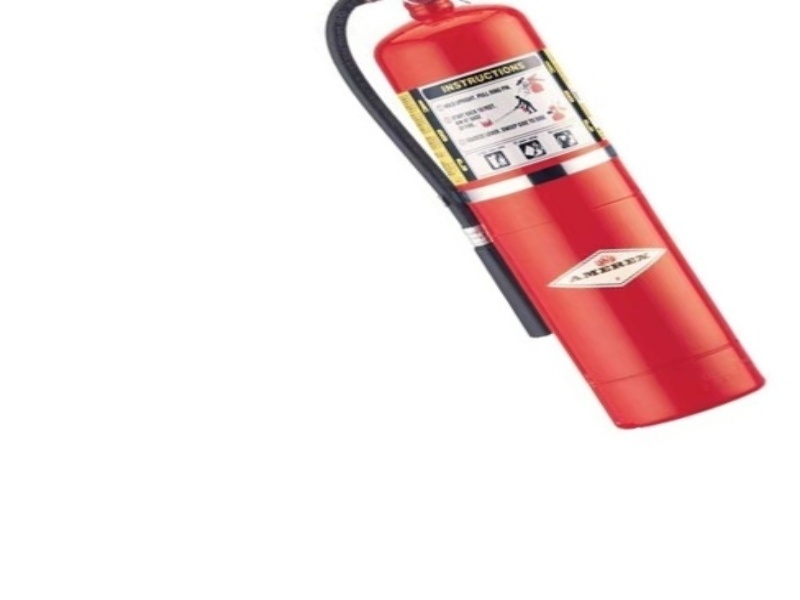fire_extinguisher: (297, 8, 779, 429)
